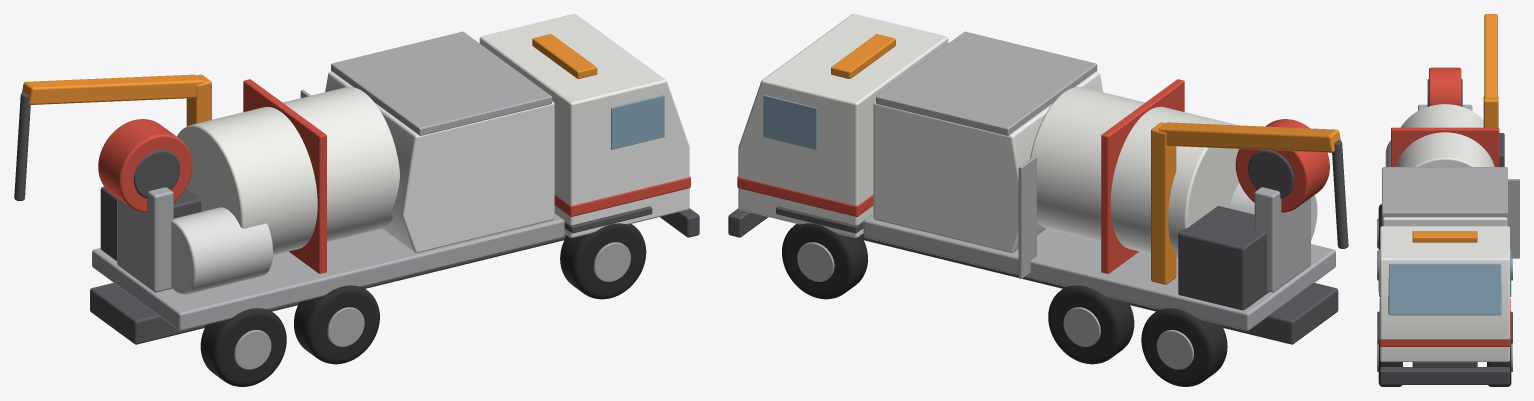
Rendered from mpu.glb.
The picture shows the model from 3 angles, left to right: view 1: azimuth 30°, elevation 25°; view 2: azimuth 150°, elevation 25°; view 3: azimuth 270°, elevation 25°; orthographic projection. The views are drawn at different scales.
Visible parts, largest first — view 1: MPU_EmulsionTank, MPU_Cab, MPU_ANBin, MPU_Subframe, MPU_BinLid, MPU_WaterTank, MPU_ReelStand, MPU_HoseReel, MPU_Boom, MPU_Wheel_-2.4_-1, MPU_Wheel_-1.0_-1, MPU_Wheel_3.0_-1 (+14 smaller); view 2: MPU_Cab, MPU_EmulsionTank, MPU_ANBin, MPU_BinLid, MPU_Subframe, MPU, MPU_PumpBox, MPU_Boom, MPU_ReelStand, MPU_Chassis, MPU_TankBand, MPU_BoomPost (+13 smaller); view 3: MPU_Cab, MPU_BinLid, MPU_Windscreen, MPU_EmulsionTank, MPU_Bumper, MPU_TankBand, MPU_HoseReel, MPU_ANBin, MPU_Boom, MPU_Stripe, MPU_Ladder, MPU_BeaconBar (+5 smaller).
Boxes of the visible parts, x1,y1,x2,y2 form: MPU_EmulsionTank: [177, 87, 399, 255]; MPU_Cab: [479, 14, 689, 237]; MPU_ANBin: [325, 71, 554, 253]; MPU_Subframe: [92, 213, 564, 330]; MPU_BinLid: [331, 31, 552, 135]; MPU_WaterTank: [171, 207, 273, 294]; MPU_ReelStand: [117, 187, 173, 292]; MPU_HoseReel: [98, 119, 192, 212]; MPU_Boom: [22, 74, 203, 104]; MPU_Wheel_-2.4_-1: [200, 308, 286, 386]; MPU_Wheel_-1.0_-1: [294, 285, 379, 364]; MPU_Wheel_3.0_-1: [560, 223, 646, 299]; MPU_Cab: [738, 14, 948, 237]; MPU_EmulsionTank: [1030, 87, 1239, 260]; MPU_ANBin: [873, 71, 1102, 253]; MPU_BinLid: [876, 31, 1097, 135]; MPU_Subframe: [863, 213, 1335, 330]; MPU: [782, 223, 1227, 386]; MPU_PumpBox: [1178, 206, 1268, 310]; MPU_Boom: [1158, 122, 1340, 152]; MPU_ReelStand: [1254, 187, 1310, 292]; MPU_Chassis: [765, 216, 1338, 344]; MPU_TankBand: [1101, 79, 1184, 273]; MPU_BoomPost: [1151, 122, 1176, 284]; MPU_Cab: [1380, 226, 1509, 361]; MPU_BinLid: [1382, 167, 1507, 217]; MPU_Windscreen: [1388, 263, 1501, 315]; MPU_EmulsionTank: [1395, 104, 1494, 166]; MPU_Bumper: [1380, 367, 1509, 384]; MPU_TankBand: [1391, 127, 1499, 166]; MPU_HoseReel: [1429, 67, 1461, 106]; MPU_ANBin: [1382, 217, 1507, 226]; MPU_Boom: [1484, 14, 1497, 98]; MPU_Stripe: [1379, 298, 1510, 346]; MPU_Ladder: [1507, 179, 1519, 258]; MPU_BeaconBar: [1412, 231, 1477, 242].
Bounding box in the file's own units: 9.12 × 4.02 × 2.63.
